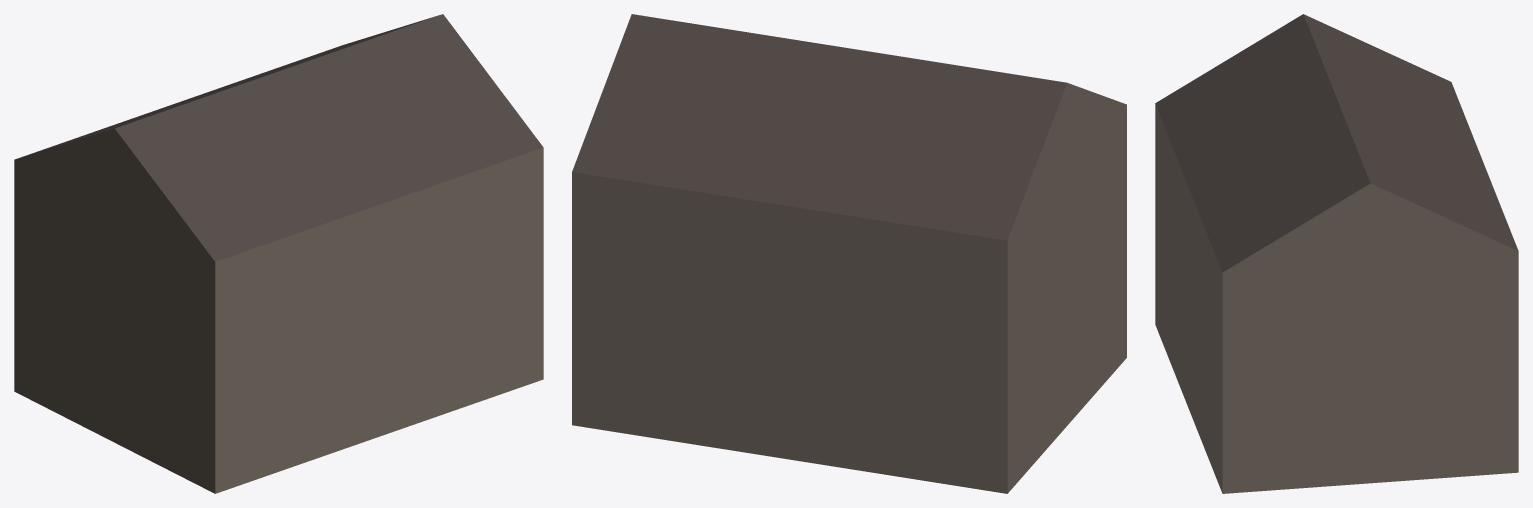
3 views of the same model, side by side, from view 1: azimuth 30°, elevation 25°; view 2: azimuth 150°, elevation 25°; view 3: azimuth 270°, elevation 25° (orthographic). The views are drawn at different scales.
Parts seen in each view (by area): view 1: HP-w1424106450; view 2: HP-w1424106450; view 3: HP-w1424106450.
Part boxes in pixels (x1=…): HP-w1424106450: x1=14, y1=14, x2=543, y2=493; HP-w1424106450: x1=572, y1=14, x2=1126, y2=493; HP-w1424106450: x1=1155, y1=14, x2=1518, y2=493.
Bounding box in the file's own units: 11.08 × 8.13 × 8.93.
